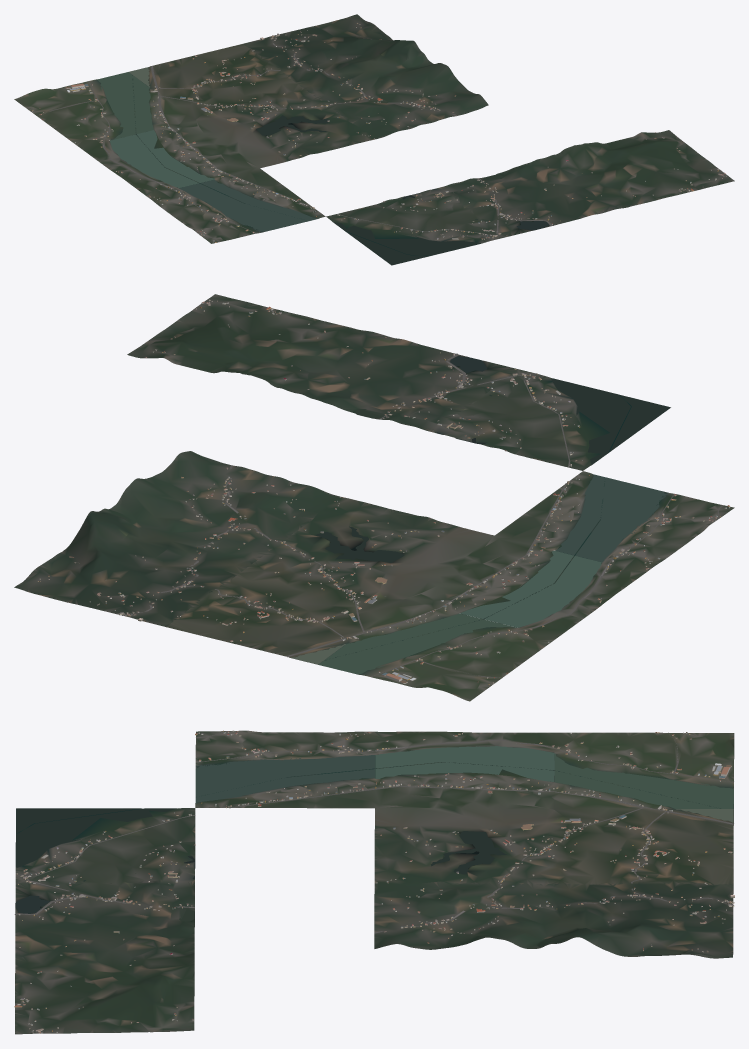
3 views of the same model, one above another, from view 1: azimuth 30°, elevation 25°; view 2: azimuth 150°, elevation 25°; view 3: azimuth 270°, elevation 25° (orthographic). The views are drawn at different scales.
Parts seen in each view (by area): view 1: ground, water, buildings, roads; view 2: ground, water, buildings, roads; view 3: ground, water, buildings, roads.
Boxes of the visible parts, x1,y1,x2,y2 form: ground: (14, 14, 734, 265); water: (98, 67, 549, 264); buildings: (31, 22, 726, 242); roads: (45, 35, 553, 241); ground: (14, 294, 734, 701); water: (291, 356, 670, 674); buildings: (37, 299, 729, 685); roads: (122, 353, 723, 678); ground: (15, 730, 734, 1034); water: (15, 746, 733, 921); buildings: (14, 730, 734, 1033); roads: (14, 731, 733, 933).
Bounding box in the file's own units: 5603 × 204 × 5631.
